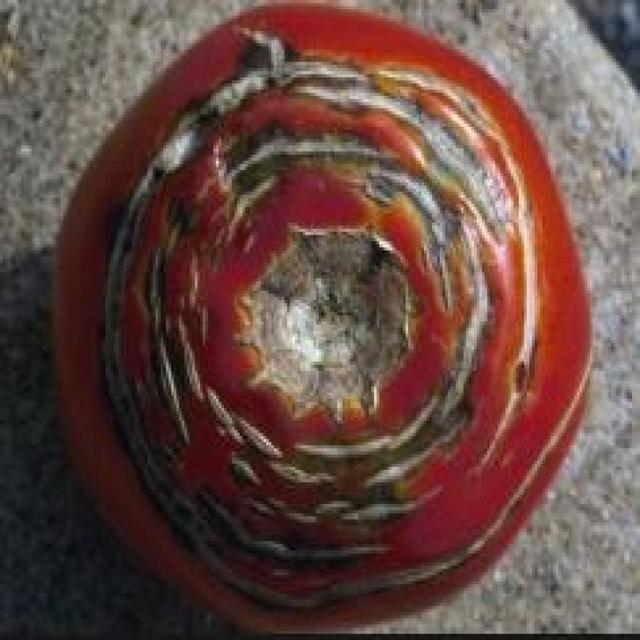Cracking Fruit: (60, 17, 389, 407)
